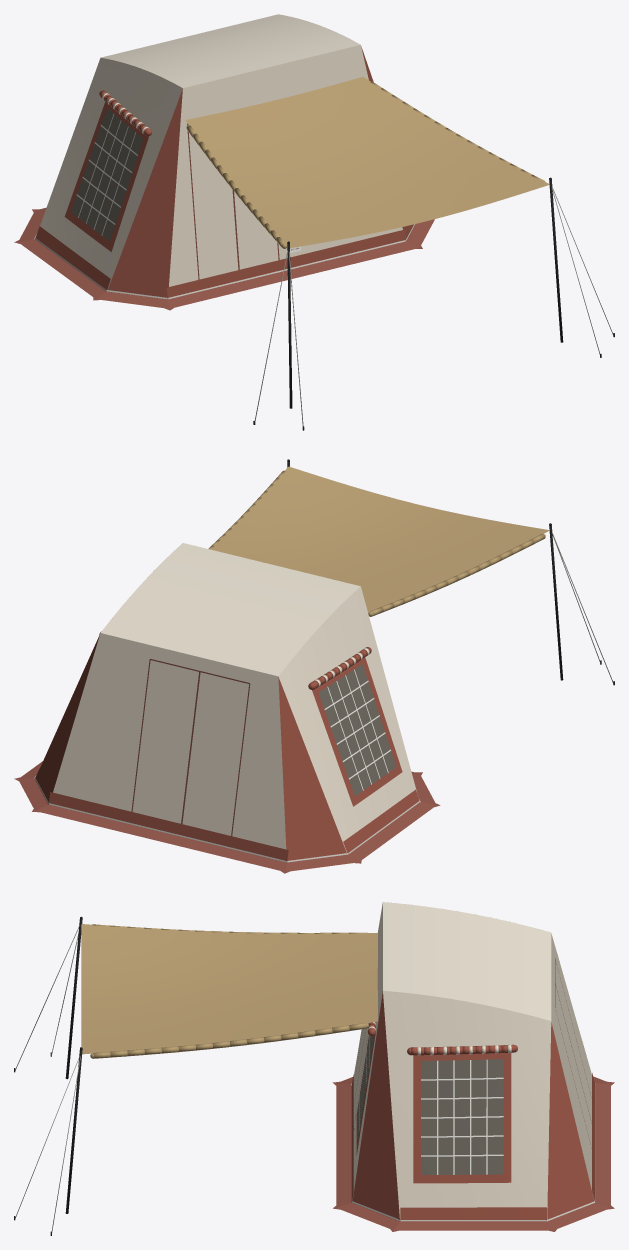
The model's file is tentmark-migrateaur.glb.
3 views of the same model, one above another, from view 1: azimuth 30°, elevation 25°; view 2: azimuth 150°, elevation 25°; view 3: azimuth 270°, elevation 25° (orthographic). The views are drawn at different scales.
Size of the model in its own units: 4.06 by 2.1 by 5.73.
